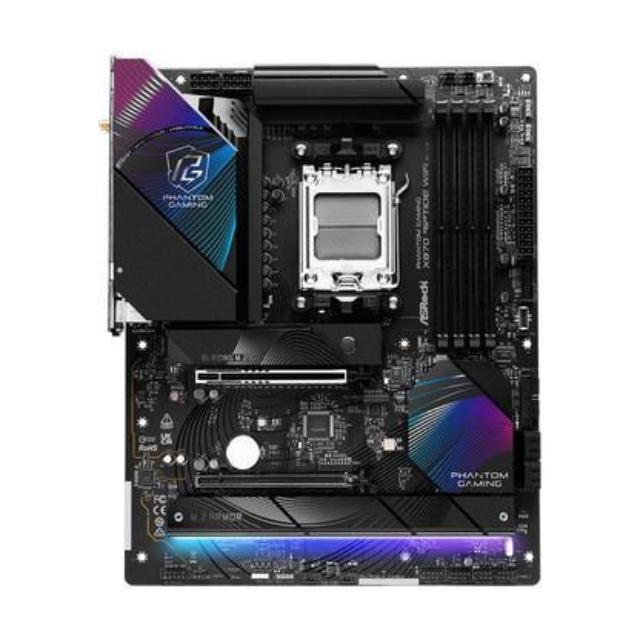Mainboard: (96, 48, 548, 597)
